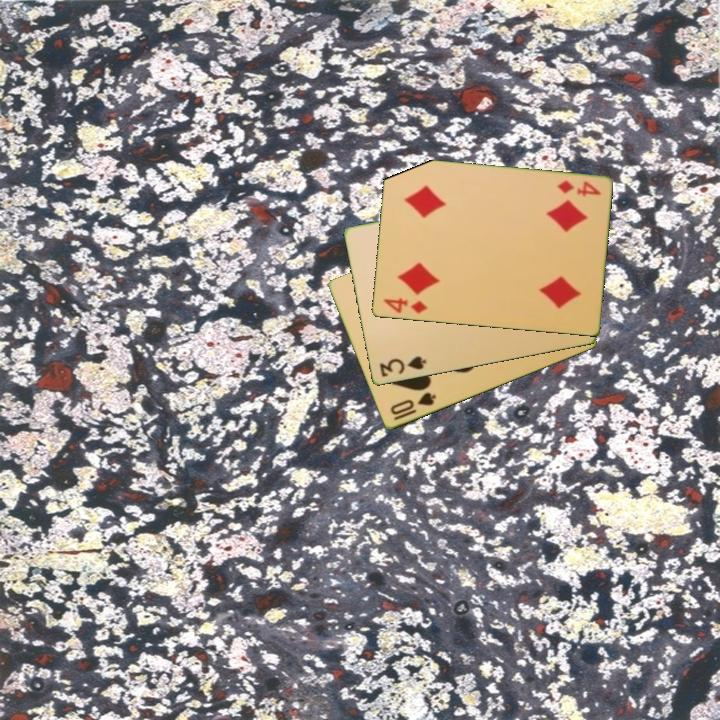10s: (387, 389, 439, 424)
3s: (376, 353, 429, 380)
4d: (380, 294, 430, 317), (553, 177, 603, 200)
